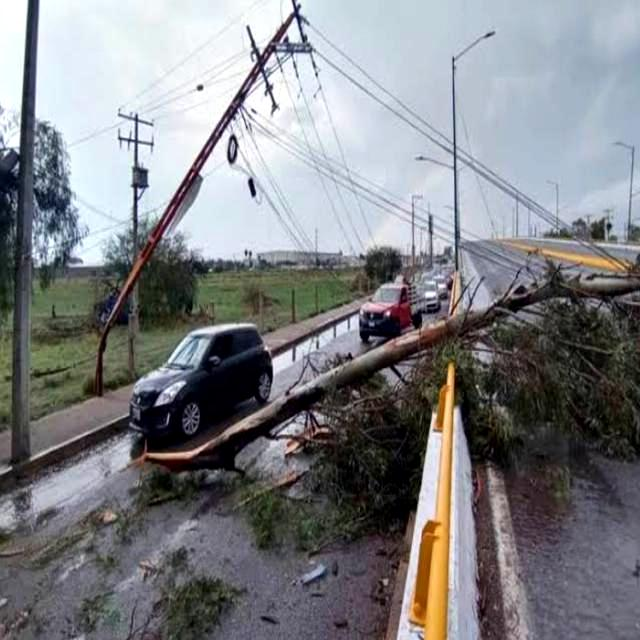Broken Pole: (90, 3, 323, 399)
